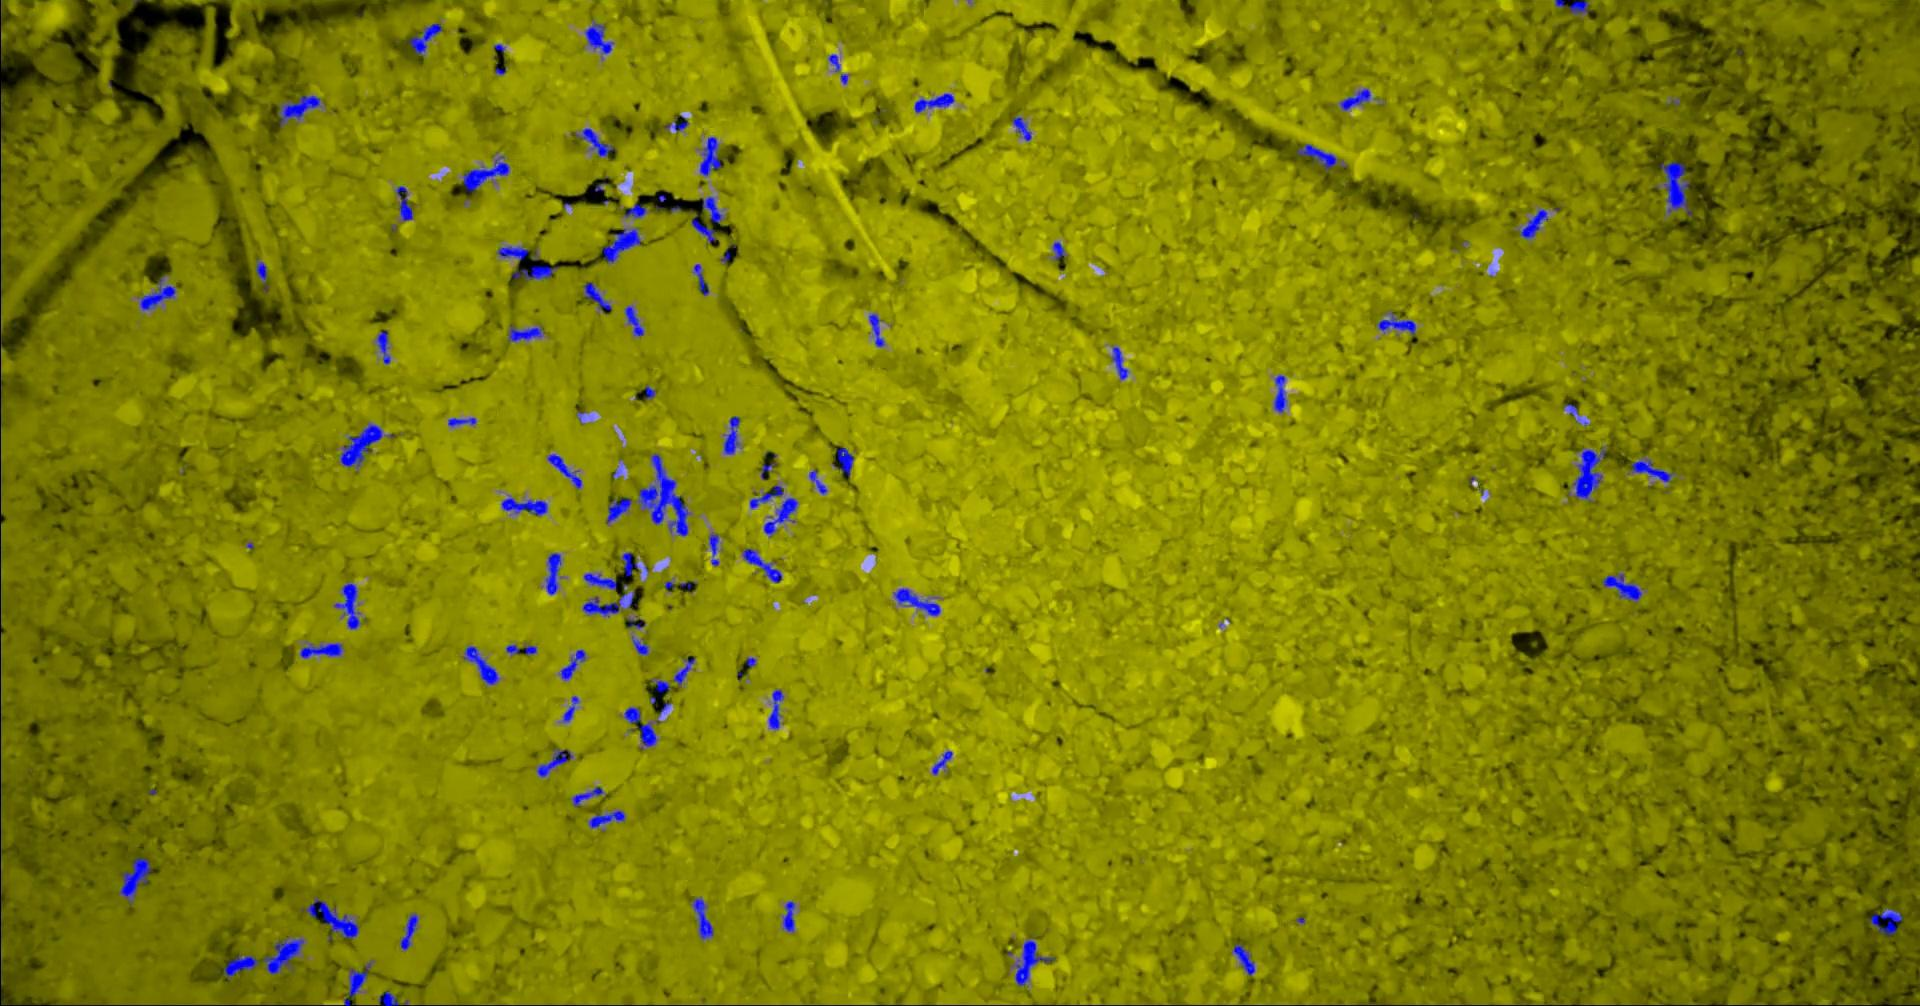ant: (300, 895, 358, 937), (339, 423, 382, 471), (1015, 937, 1055, 986), (1571, 446, 1605, 500), (1658, 161, 1691, 216), (462, 155, 509, 193), (582, 583, 634, 616), (119, 857, 151, 904), (623, 706, 657, 749), (602, 227, 640, 263), (463, 645, 499, 683), (763, 497, 797, 536), (742, 547, 781, 582), (1297, 144, 1345, 171), (277, 95, 319, 127), (893, 587, 940, 615), (546, 453, 582, 489), (138, 276, 175, 310), (343, 960, 371, 1005), (333, 583, 359, 629), (574, 127, 615, 156), (536, 747, 571, 777), (1601, 573, 1641, 600), (408, 23, 441, 55), (1630, 457, 1674, 481), (584, 19, 613, 53), (690, 895, 712, 939), (1869, 907, 1902, 935), (1338, 86, 1377, 111), (698, 136, 721, 175), (1517, 208, 1547, 239), (1377, 312, 1415, 335), (583, 282, 611, 312), (557, 649, 585, 680), (749, 484, 783, 508), (502, 497, 547, 514), (913, 93, 954, 112), (545, 553, 563, 594), (298, 641, 342, 658), (1233, 942, 1255, 976), (691, 215, 716, 243), (588, 809, 625, 828), (832, 446, 853, 478), (604, 498, 631, 523), (510, 265, 557, 279), (571, 786, 603, 807), (395, 185, 413, 221), (400, 913, 418, 949), (673, 657, 695, 686), (723, 415, 739, 453), (768, 688, 783, 729), (583, 572, 616, 589), (623, 305, 643, 335), (701, 196, 723, 222), (507, 325, 543, 340), (1272, 375, 1288, 412), (1563, 403, 1587, 426), (1111, 345, 1128, 379), (931, 749, 952, 774), (869, 312, 884, 345), (375, 332, 390, 365), (1011, 116, 1031, 140), (497, 245, 528, 260), (693, 263, 709, 295), (561, 695, 579, 721), (255, 257, 268, 292), (808, 469, 825, 494), (620, 553, 639, 575), (663, 114, 688, 131), (378, 991, 408, 1005), (782, 901, 795, 932), (623, 203, 646, 218), (631, 635, 648, 655), (709, 532, 717, 567), (447, 417, 476, 427), (1570, 0, 1589, 15), (1051, 241, 1065, 260), (651, 680, 670, 694), (828, 53, 839, 71), (626, 617, 645, 627), (644, 384, 655, 399), (505, 644, 519, 654), (0, 757, 1, 861), (0, 152, 1, 227), (0, 235, 1, 301)
